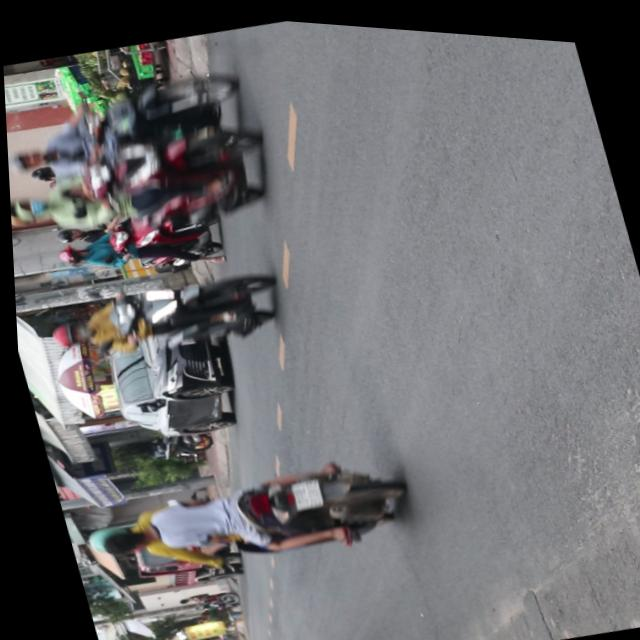helmet: (8, 189, 50, 227), (42, 316, 88, 349), (51, 241, 85, 265)
licenseplate: (2, 41, 290, 272), (68, 424, 414, 604), (4, 99, 291, 273), (33, 246, 290, 382), (45, 195, 227, 294)
motorcyclist: (91, 518, 152, 559)
nohelmet: (283, 473, 317, 507)
